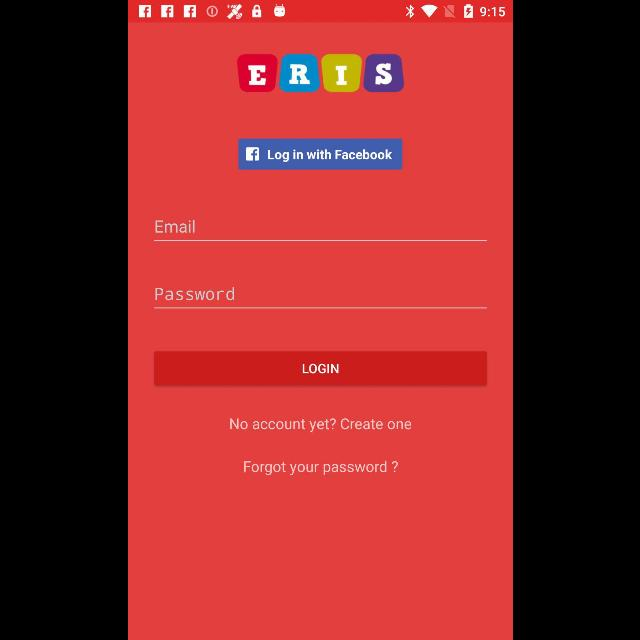image: (236, 54, 404, 92)
input: (153, 287, 487, 309), (154, 219, 486, 241)
text: (229, 418, 411, 434), (243, 460, 397, 476), (154, 287, 233, 301), (154, 220, 193, 234)
textbutton: (154, 352, 486, 386), (238, 138, 402, 170)
uppertaskbar: (128, 1, 512, 23)
